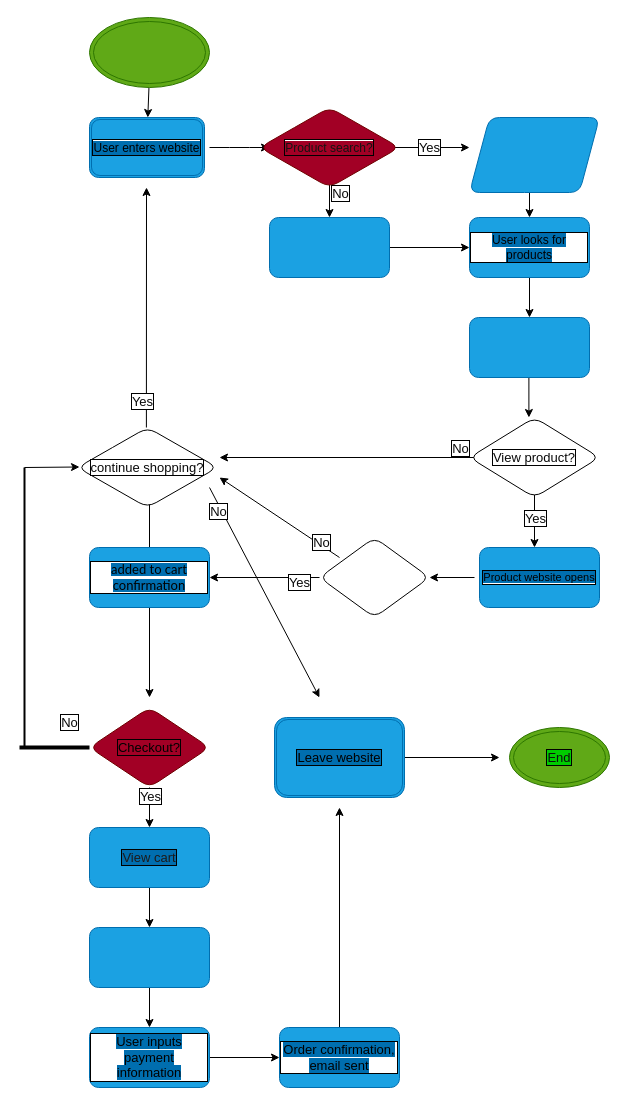
Image size: 627x1105. Some labels were removed from this diagram. The shapes that lost their labels are listed below. From the top down, each one's centre as x and y in pixels, then its label:
At (149,52): "Start".
At (534,154): "User input read and searched for".
At (329,247): "Product explore".
At (529,347): "Product chosen".
At (374,577): "add to cart?".
At (149,957): "View payment".
